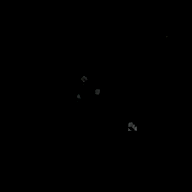v: (74, 74, 101, 99)
